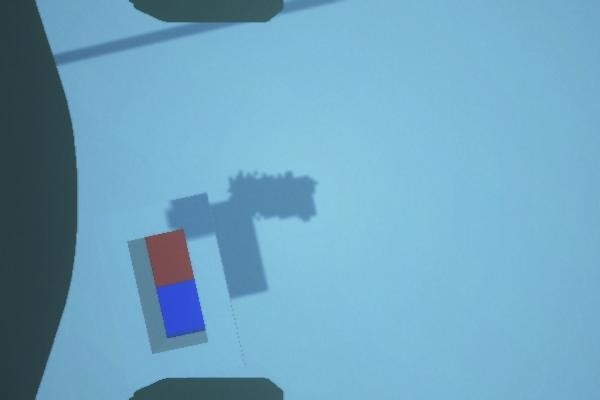bin: (94, 192, 248, 384)
bin_bleue: (157, 280, 206, 338)
bin_rouge: (145, 230, 195, 288)
